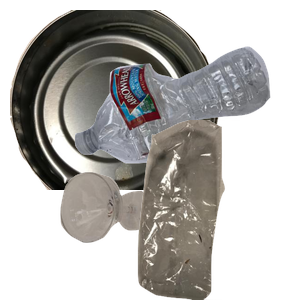glass: (58, 170, 202, 300)
metal: (10, 10, 221, 190)
plastic: (72, 44, 300, 200)
trash: (114, 120, 300, 300)
